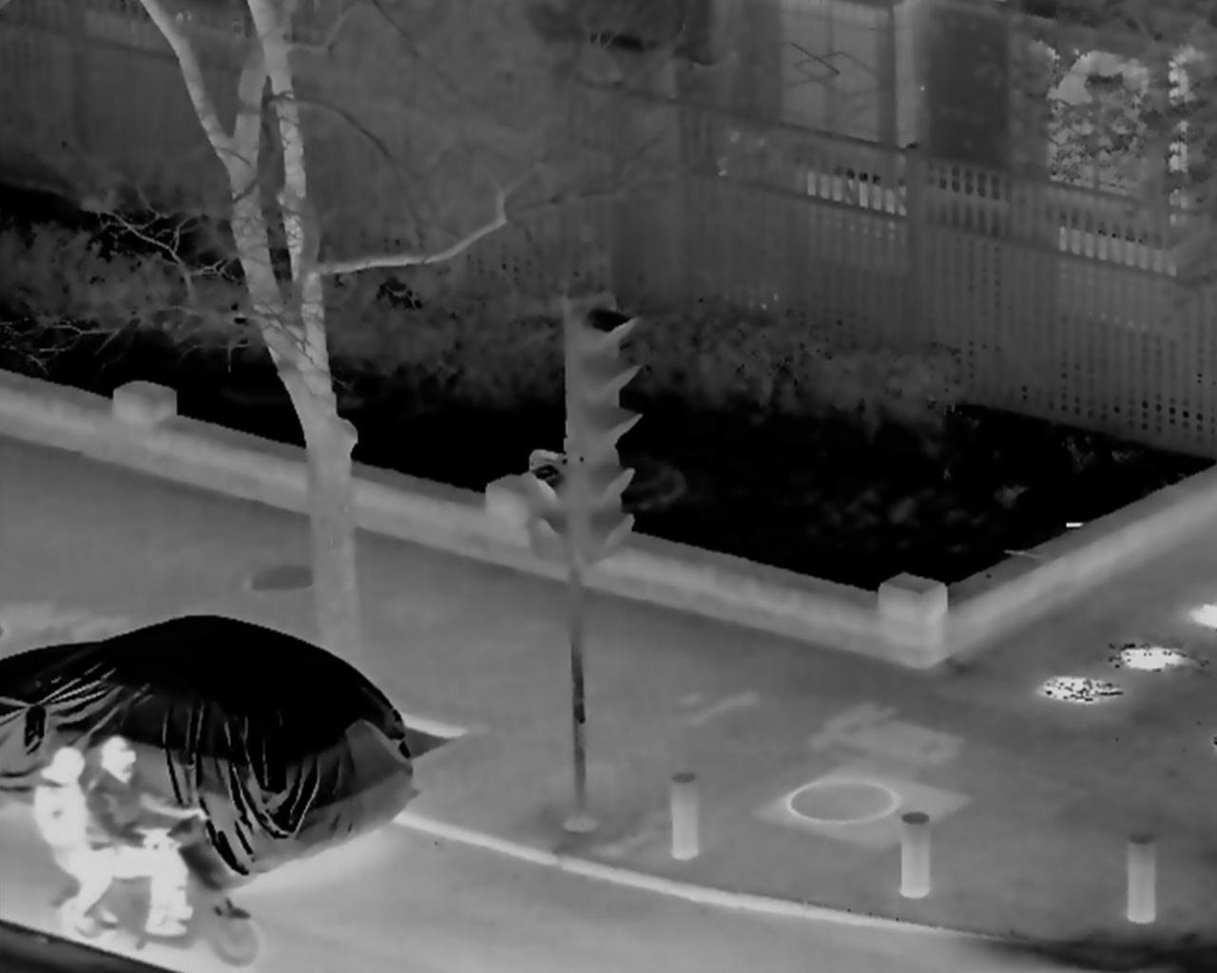person: (90, 735, 194, 933), (30, 748, 110, 937)
